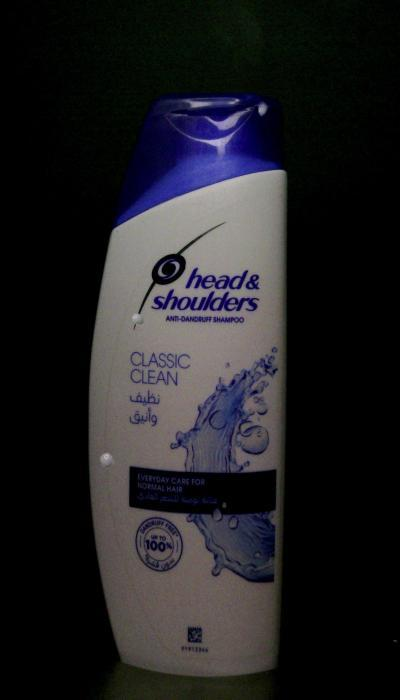pob_marg: (125, 304, 150, 336), (94, 446, 117, 474), (250, 96, 274, 120)
